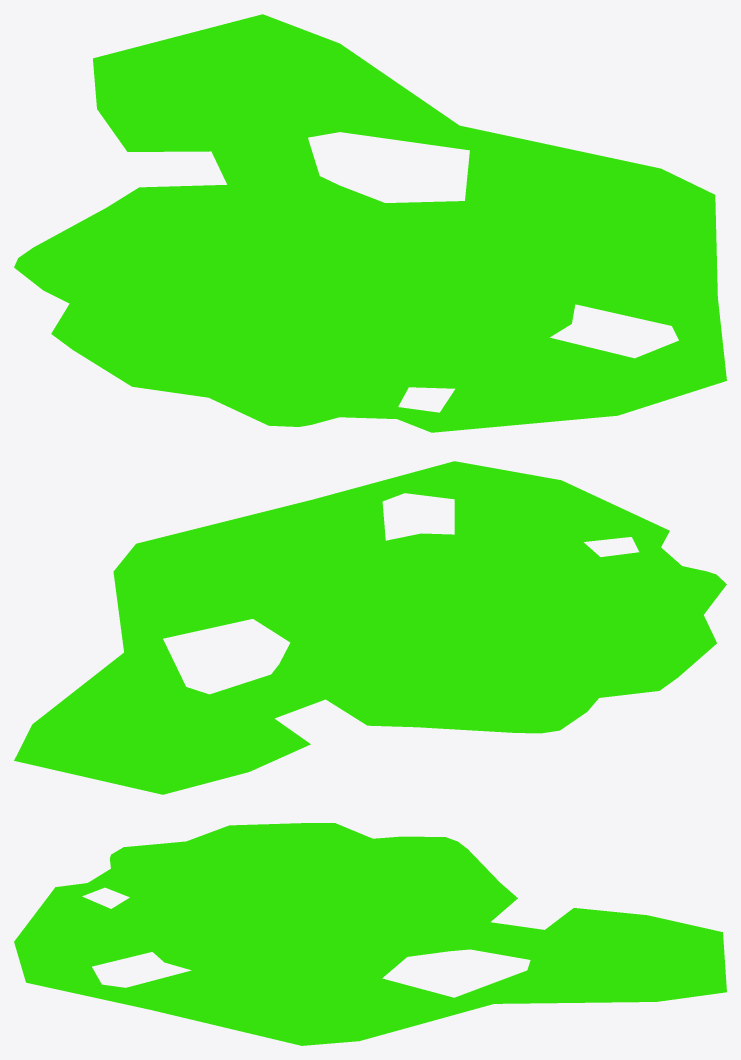
The model's file is campfire-nav 2.glb.
3 views of the same model, one above another, from view 1: azimuth 30°, elevation 25°; view 2: azimuth 150°, elevation 25°; view 3: azimuth 270°, elevation 25° (orthographic). The views are drawn at different scales.
Visible parts, largest first — view 1: campfire-nav; view 2: campfire-nav; view 3: campfire-nav.
Boxes of the visible parts, box(x1,y1,x2,y2) form: campfire-nav: box(14, 14, 726, 432); campfire-nav: box(14, 461, 726, 794); campfire-nav: box(14, 823, 726, 1045).
Size of the model in its own units: 13.11 by 2.89e-06 by 17.72.
